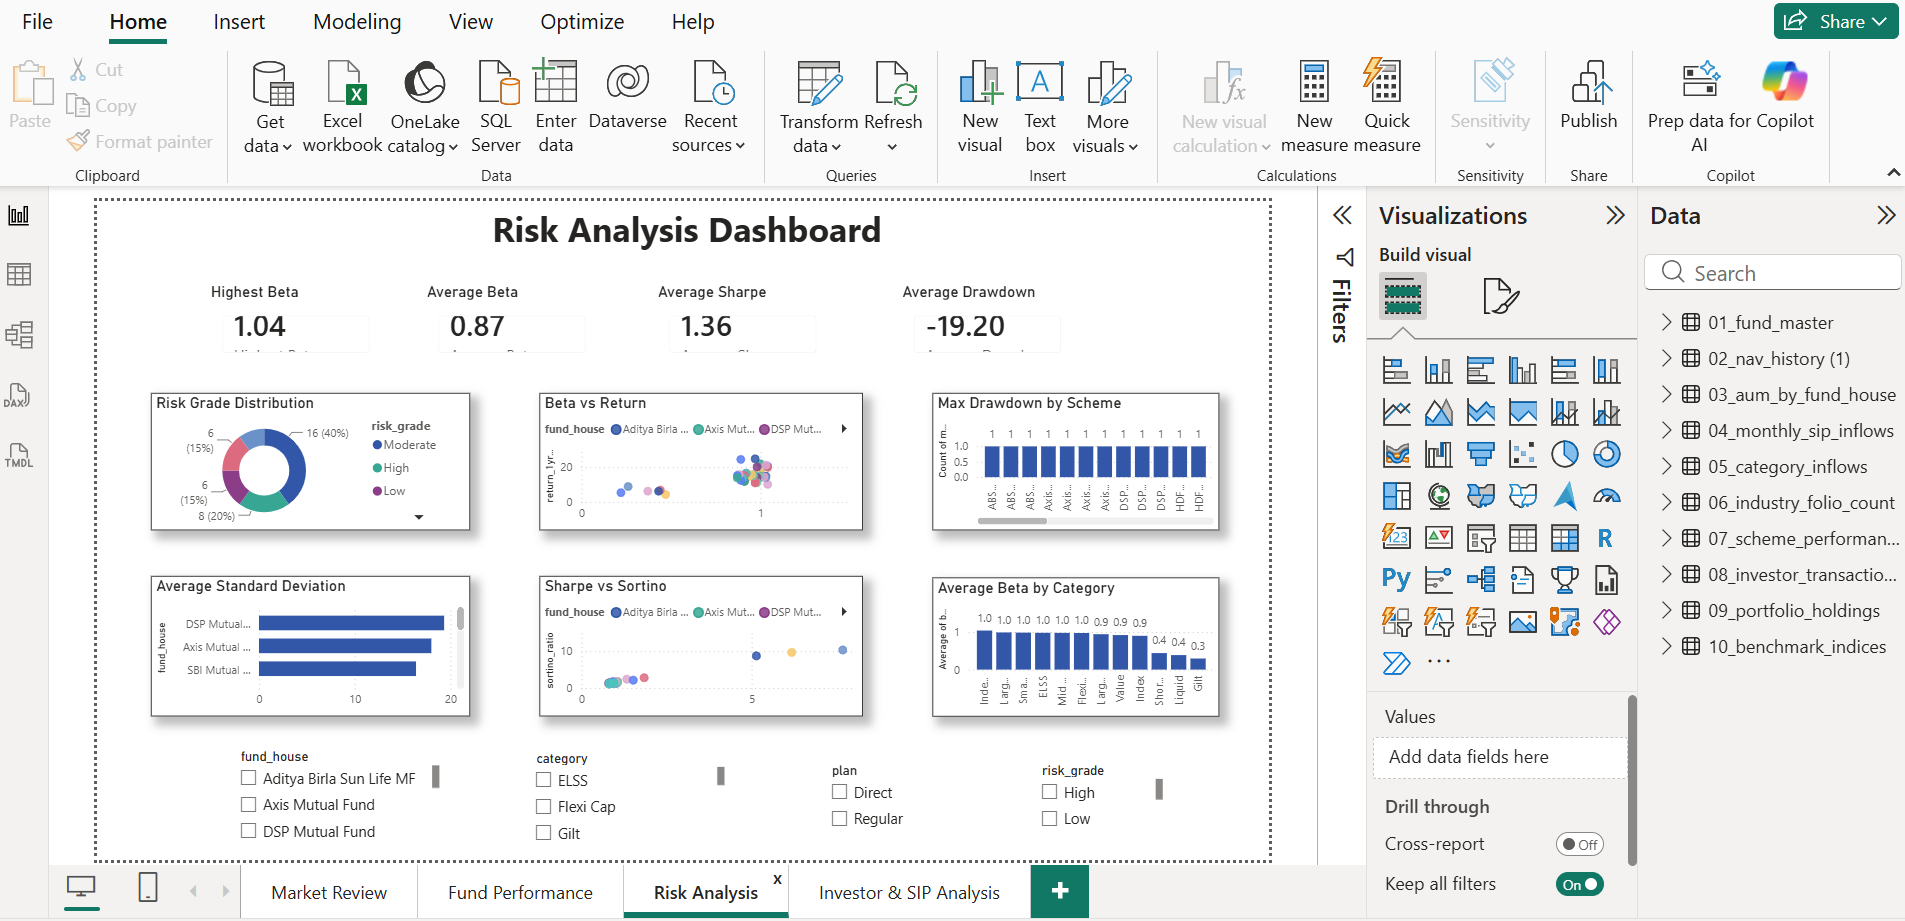

What the dashboard file says about the page in this screenshot:
{"tool":"powerbi","page":{"name":"Risk Analysis","canvas":[1280,720],"ordinal":2},"visuals":[{"type":"textbox","box":[10,0,1270,65],"z":0},{"type":"cardVisual","title":"Highest Beta","fields":{"Data":["07_scheme_performance.Highest Beta"]},"box":[120,88.3,195,95],"z":1000},{"type":"cardVisual","title":"Average Beta","fields":{"Data":["07_scheme_performance.Average Beta"]},"box":[355,88.3,195,95],"z":2000},{"type":"cardVisual","title":"Average Sharpe","fields":{"Data":["07_scheme_performance.Average Sharpe"]},"box":[608.3,88.3,195,95],"z":3000},{"type":"cardVisual","title":"Average Drawdown","fields":{"Data":["07_scheme_performance.Average Drawdown"]},"box":[875,88.3,195,95],"z":4000},{"type":"donutChart","title":"Risk Grade Distribution","fields":{"Category":["07_scheme_performance.risk_grade"],"Y":["CountNonNull(07_scheme_performance.scheme_name)"]},"box":[58.3,210,348.3,150],"z":5000},{"type":"scatterChart","title":"Beta vs Return","fields":{"X":["07_scheme_performance.beta"],"Y":["07_scheme_performance.return_1yr_pct"],"Series":["07_scheme_performance.fund_house"],"Size":["CountNonNull(07_scheme_performance.aum_crore)"]},"box":[483.3,210,353.3,150],"z":6000},{"type":"clusteredColumnChart","title":"Max Drawdown by Scheme","fields":{"Category":["07_scheme_performance.scheme_name"],"Y":["CountNonNull(07_scheme_performance.max_drawdown_pct)"]},"box":[913.3,210,313.3,150],"z":7000},{"type":"clusteredBarChart","title":"Average Standard Deviation","fields":{"Category":["07_scheme_performance.fund_house"],"Y":["Avg(07_scheme_performance.std_dev_ann_pct)"]},"box":[58.3,410,348.3,153.3],"z":8000},{"type":"scatterChart","title":"Sharpe vs Sortino","fields":{"X":["07_scheme_performance.sharpe_ratio"],"Y":["07_scheme_performance.sortino_ratio"],"Series":["07_scheme_performance.fund_house"]},"box":[483.3,410,353.3,153.3],"z":9000},{"type":"clusteredColumnChart","title":"Average Beta by Category","fields":{"Y":["Avg(07_scheme_performance.beta)"],"Category":["07_scheme_performance.category"]},"box":[913.3,411.7,313.3,151.7],"z":10000},{"type":"slicer","fields":{"Values":["07_scheme_performance.fund_house"]},"box":[145,593.3,235,113.3],"z":11000},{"type":"slicer","fields":{"Values":["07_scheme_performance.category"]},"box":[466.7,595,223.3,113.3],"z":12000},{"type":"slicer","fields":{"Values":["07_scheme_performance.plan"]},"box":[790,608.3,168.3,98.3],"z":13000},{"type":"slicer","fields":{"Values":["07_scheme_performance.risk_grade"]},"box":[1020,608.3,150,86.7],"z":14000}]}

Visuals, with their boxes on the page's 1280x720 design canvas (x1, y1, x2, y2). These are canvas units, not pixel positions in the 1905x921 screenshot, which may show the page scaled, cropped or inside an application window:
textbox: bbox=[10, 0, 1280, 65]
"Highest Beta" cardVisual: bbox=[120, 88, 315, 183]
"Average Beta" cardVisual: bbox=[355, 88, 550, 183]
"Average Sharpe" cardVisual: bbox=[608, 88, 803, 183]
"Average Drawdown" cardVisual: bbox=[875, 88, 1070, 183]
"Risk Grade Distribution" donutChart: bbox=[58, 210, 407, 360]
"Beta vs Return" scatterChart: bbox=[483, 210, 837, 360]
"Max Drawdown by Scheme" clusteredColumnChart: bbox=[913, 210, 1227, 360]
"Average Standard Deviation" clusteredBarChart: bbox=[58, 410, 407, 563]
"Sharpe vs Sortino" scatterChart: bbox=[483, 410, 837, 563]
"Average Beta by Category" clusteredColumnChart: bbox=[913, 412, 1227, 563]
slicer - 07_scheme_performance.fund_house: bbox=[145, 593, 380, 707]
slicer - 07_scheme_performance.category: bbox=[467, 595, 690, 708]
slicer - 07_scheme_performance.plan: bbox=[790, 608, 958, 707]
slicer - 07_scheme_performance.risk_grade: bbox=[1020, 608, 1170, 695]
